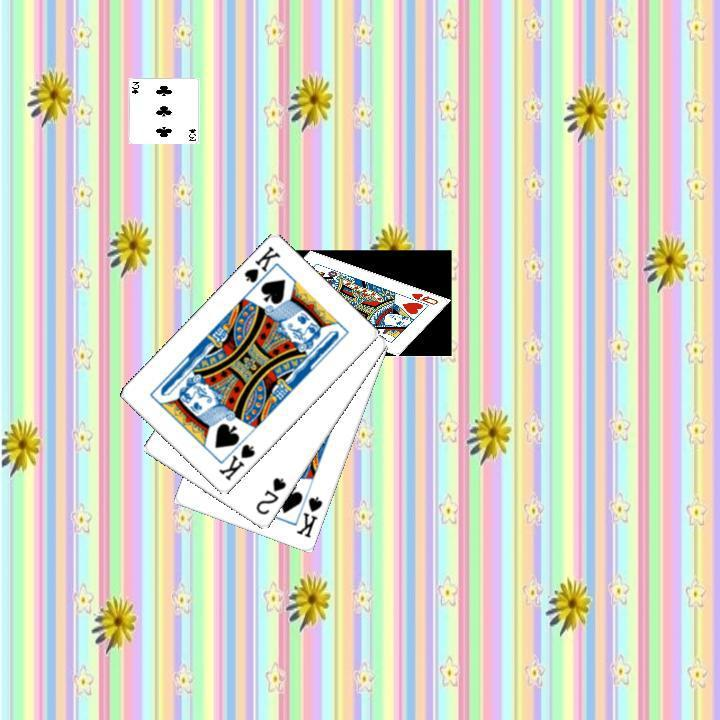2: (251, 473, 288, 517)
K: (240, 242, 283, 293), (214, 440, 257, 483), (292, 492, 325, 540)
